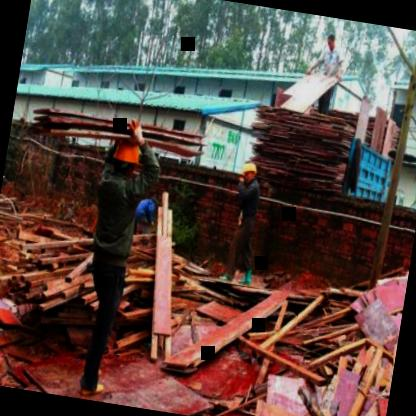helmet: (109, 132, 144, 182), (239, 159, 260, 188)
